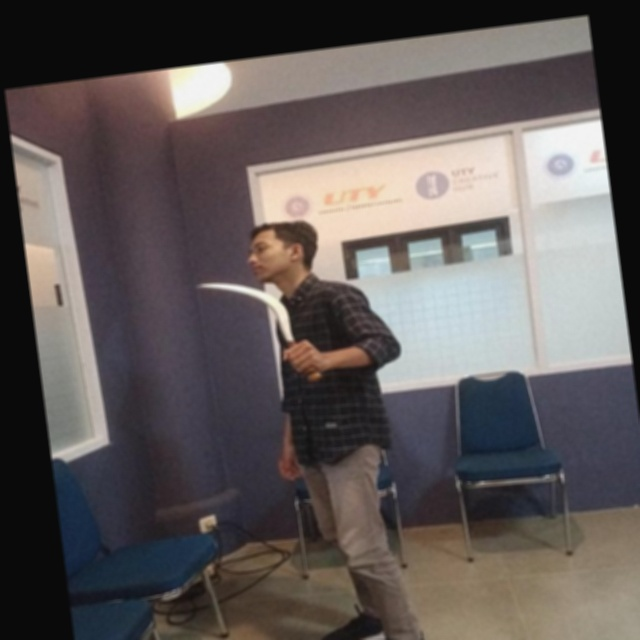Sharp-Object: (190, 264, 340, 398)
